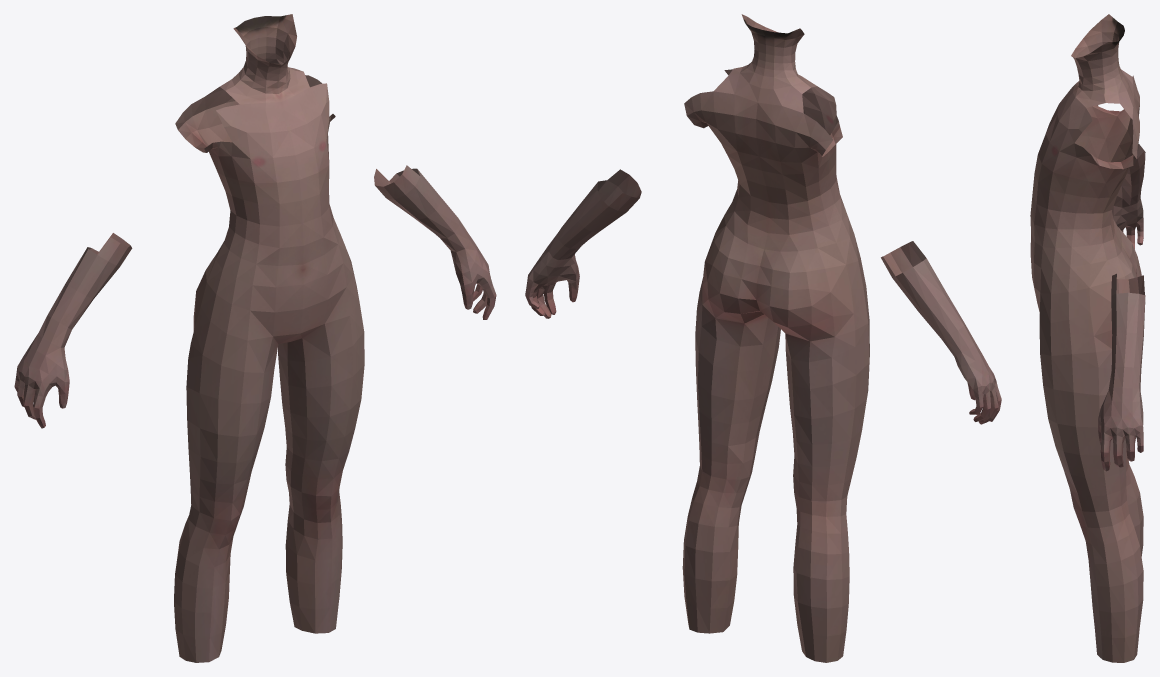
File: mesh2.dat.obj
3 views of the same model, side by side, from view 1: azimuth 30°, elevation 25°; view 2: azimuth 150°, elevation 25°; view 3: azimuth 270°, elevation 25° (orthographic). The views are drawn at different scales.
Parts seen in each view (by area): view 1: Object001; view 2: Object001; view 3: Object001.
Part boxes in pixels (x1,y1,x2,y2): Object001: (14,14,496,662); Object001: (525,14,1001,662); Object001: (1030,14,1145,662).
Bounding box in the file's own units: 5.22 × 6.61 × 1.15.
Materials: 1 (1 with a texture image).
